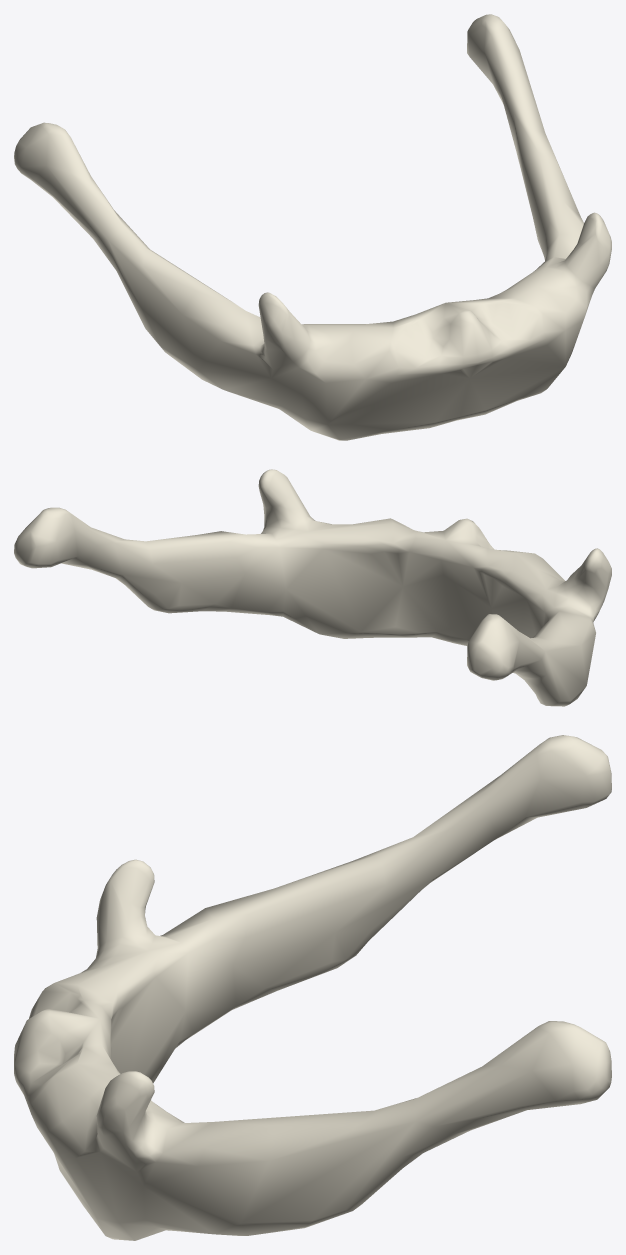
3 views of the same model, one above another, from view 1: azimuth 30°, elevation 25°; view 2: azimuth 150°, elevation 25°; view 3: azimuth 270°, elevation 25° (orthographic). The views are drawn at different scales.
Parts seen in each view (by area): view 1: ZA_0ae71842d58abc4e; view 2: ZA_0ae71842d58abc4e; view 3: ZA_0ae71842d58abc4e.
Boxes of the visible parts, <box> form: ZA_0ae71842d58abc4e: <box>14,14,611,440</box>; ZA_0ae71842d58abc4e: <box>14,469,611,706</box>; ZA_0ae71842d58abc4e: <box>14,735,611,1240</box>.
Size of the model in its own units: 0.0455 by 0.0195 by 0.036.
